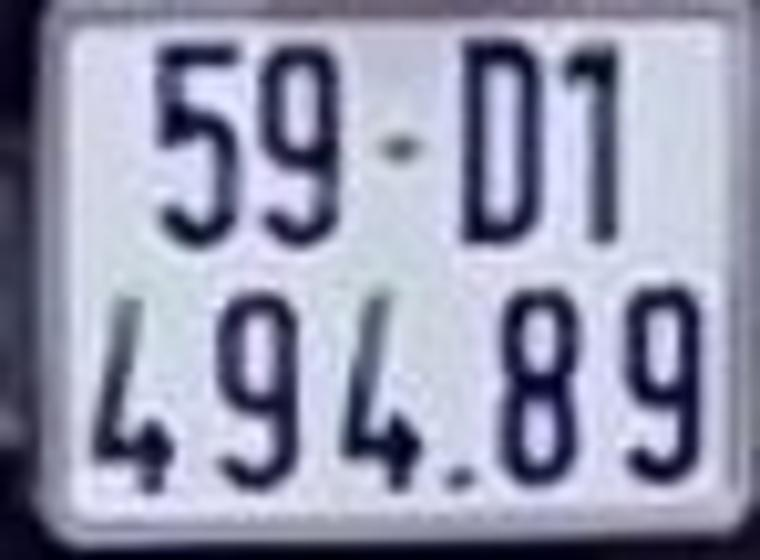-: (378, 135, 417, 161)
1: (565, 38, 621, 246)
4: (88, 302, 173, 490), (343, 296, 421, 492), (448, 469, 472, 493)
5: (151, 36, 241, 243)
8: (502, 289, 575, 485)
9: (617, 275, 702, 485), (215, 298, 306, 486), (261, 41, 336, 242)
D: (463, 39, 537, 240)
